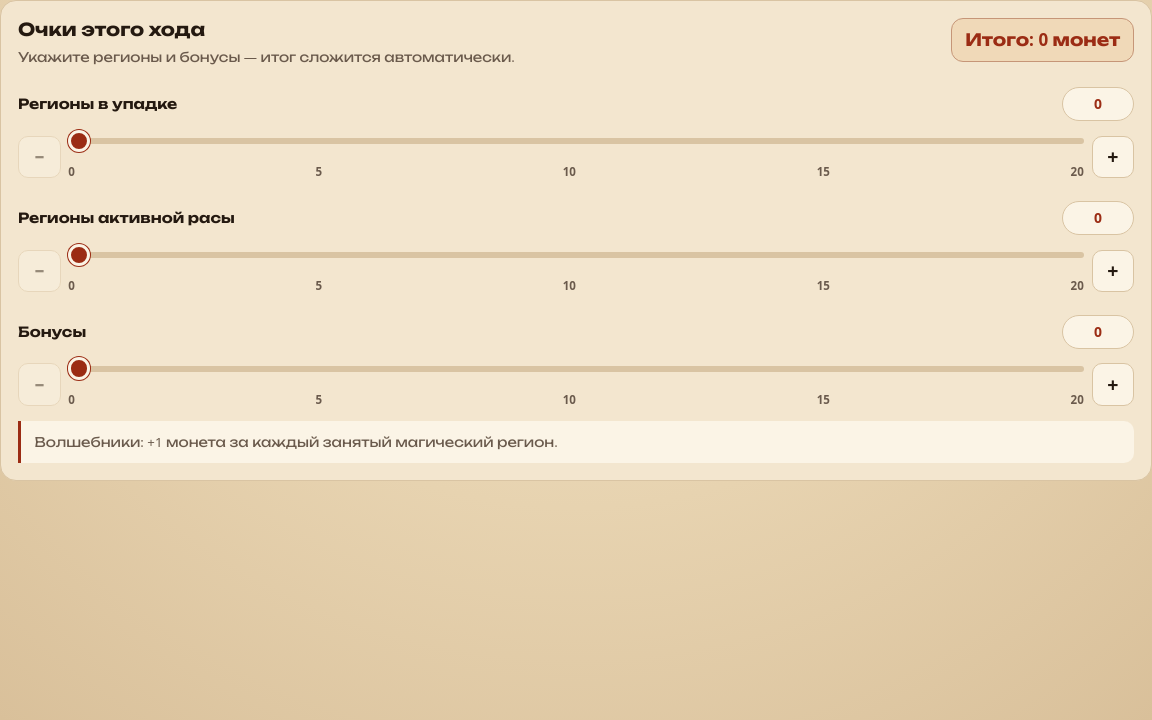
Scenario: TurnScoreInput › steps a slider with the buttons on either side of the track
This screenshot has width=1152, height=720.
expect the button named "Уменьшить: Регионы в упадке" is disabled: met, box x1=18 y1=136 x2=60 y2=178
Click the button named "Увеличить: Регионы в упадке" at (1113, 157), box x1=1092 y1=136 x2=1134 y2=178
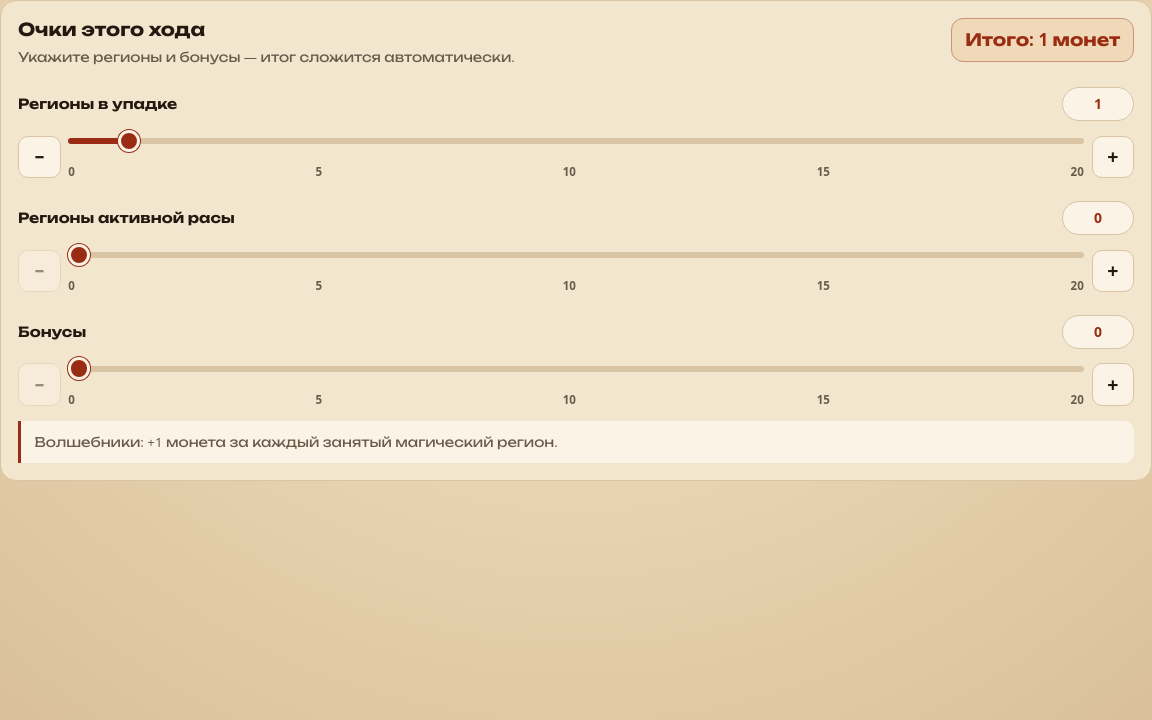
Click the button named "Увеличить: Регионы в упадке" at (1113, 157), box x1=1092 y1=136 x2=1134 y2=178
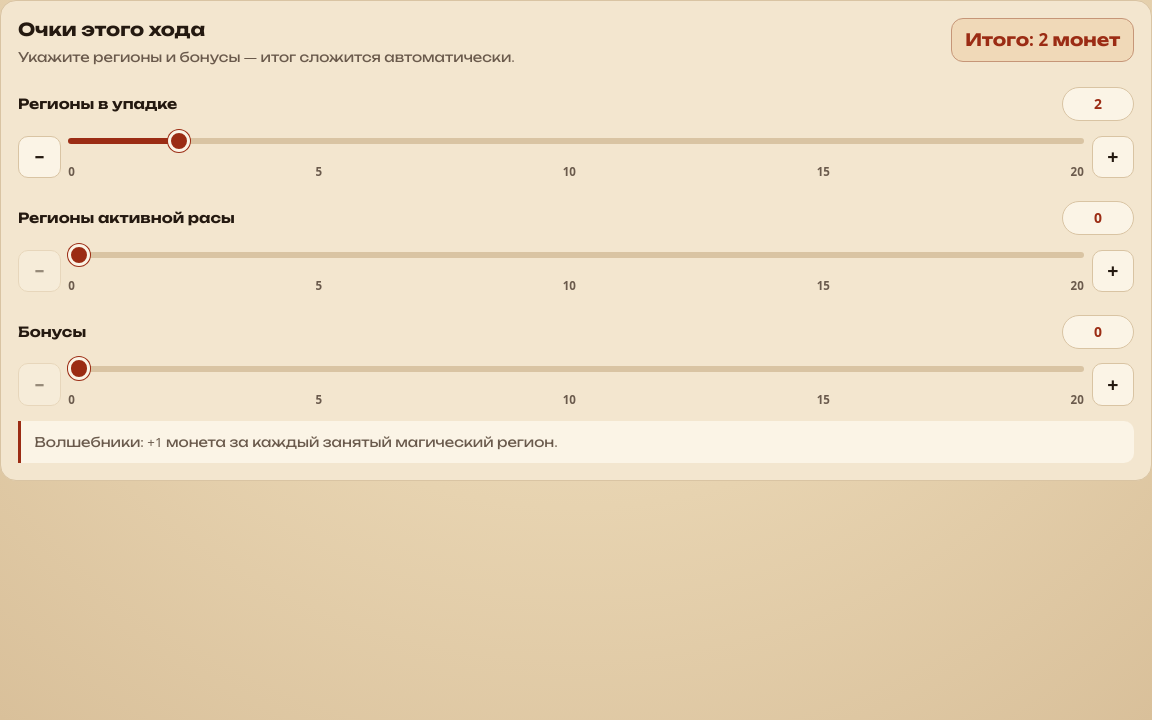
Click the button named "Уменьшить: Регионы в упадке" at (39, 157), box x1=18 y1=136 x2=60 y2=178
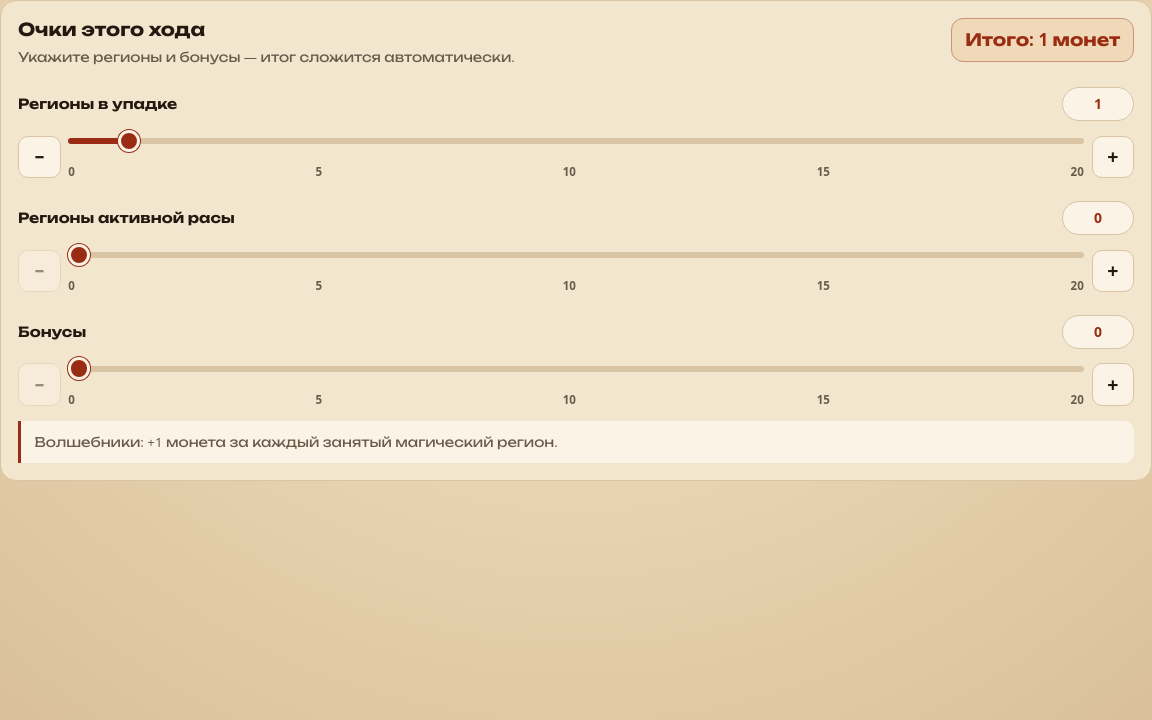
expect the field named "Точное число регионов в упадке" holds "1": met, box x1=1062 y1=87 x2=1134 y2=121
expect the text "Итого: 1 монет" is shown: met, box x1=951 y1=18 x2=1134 y2=62
